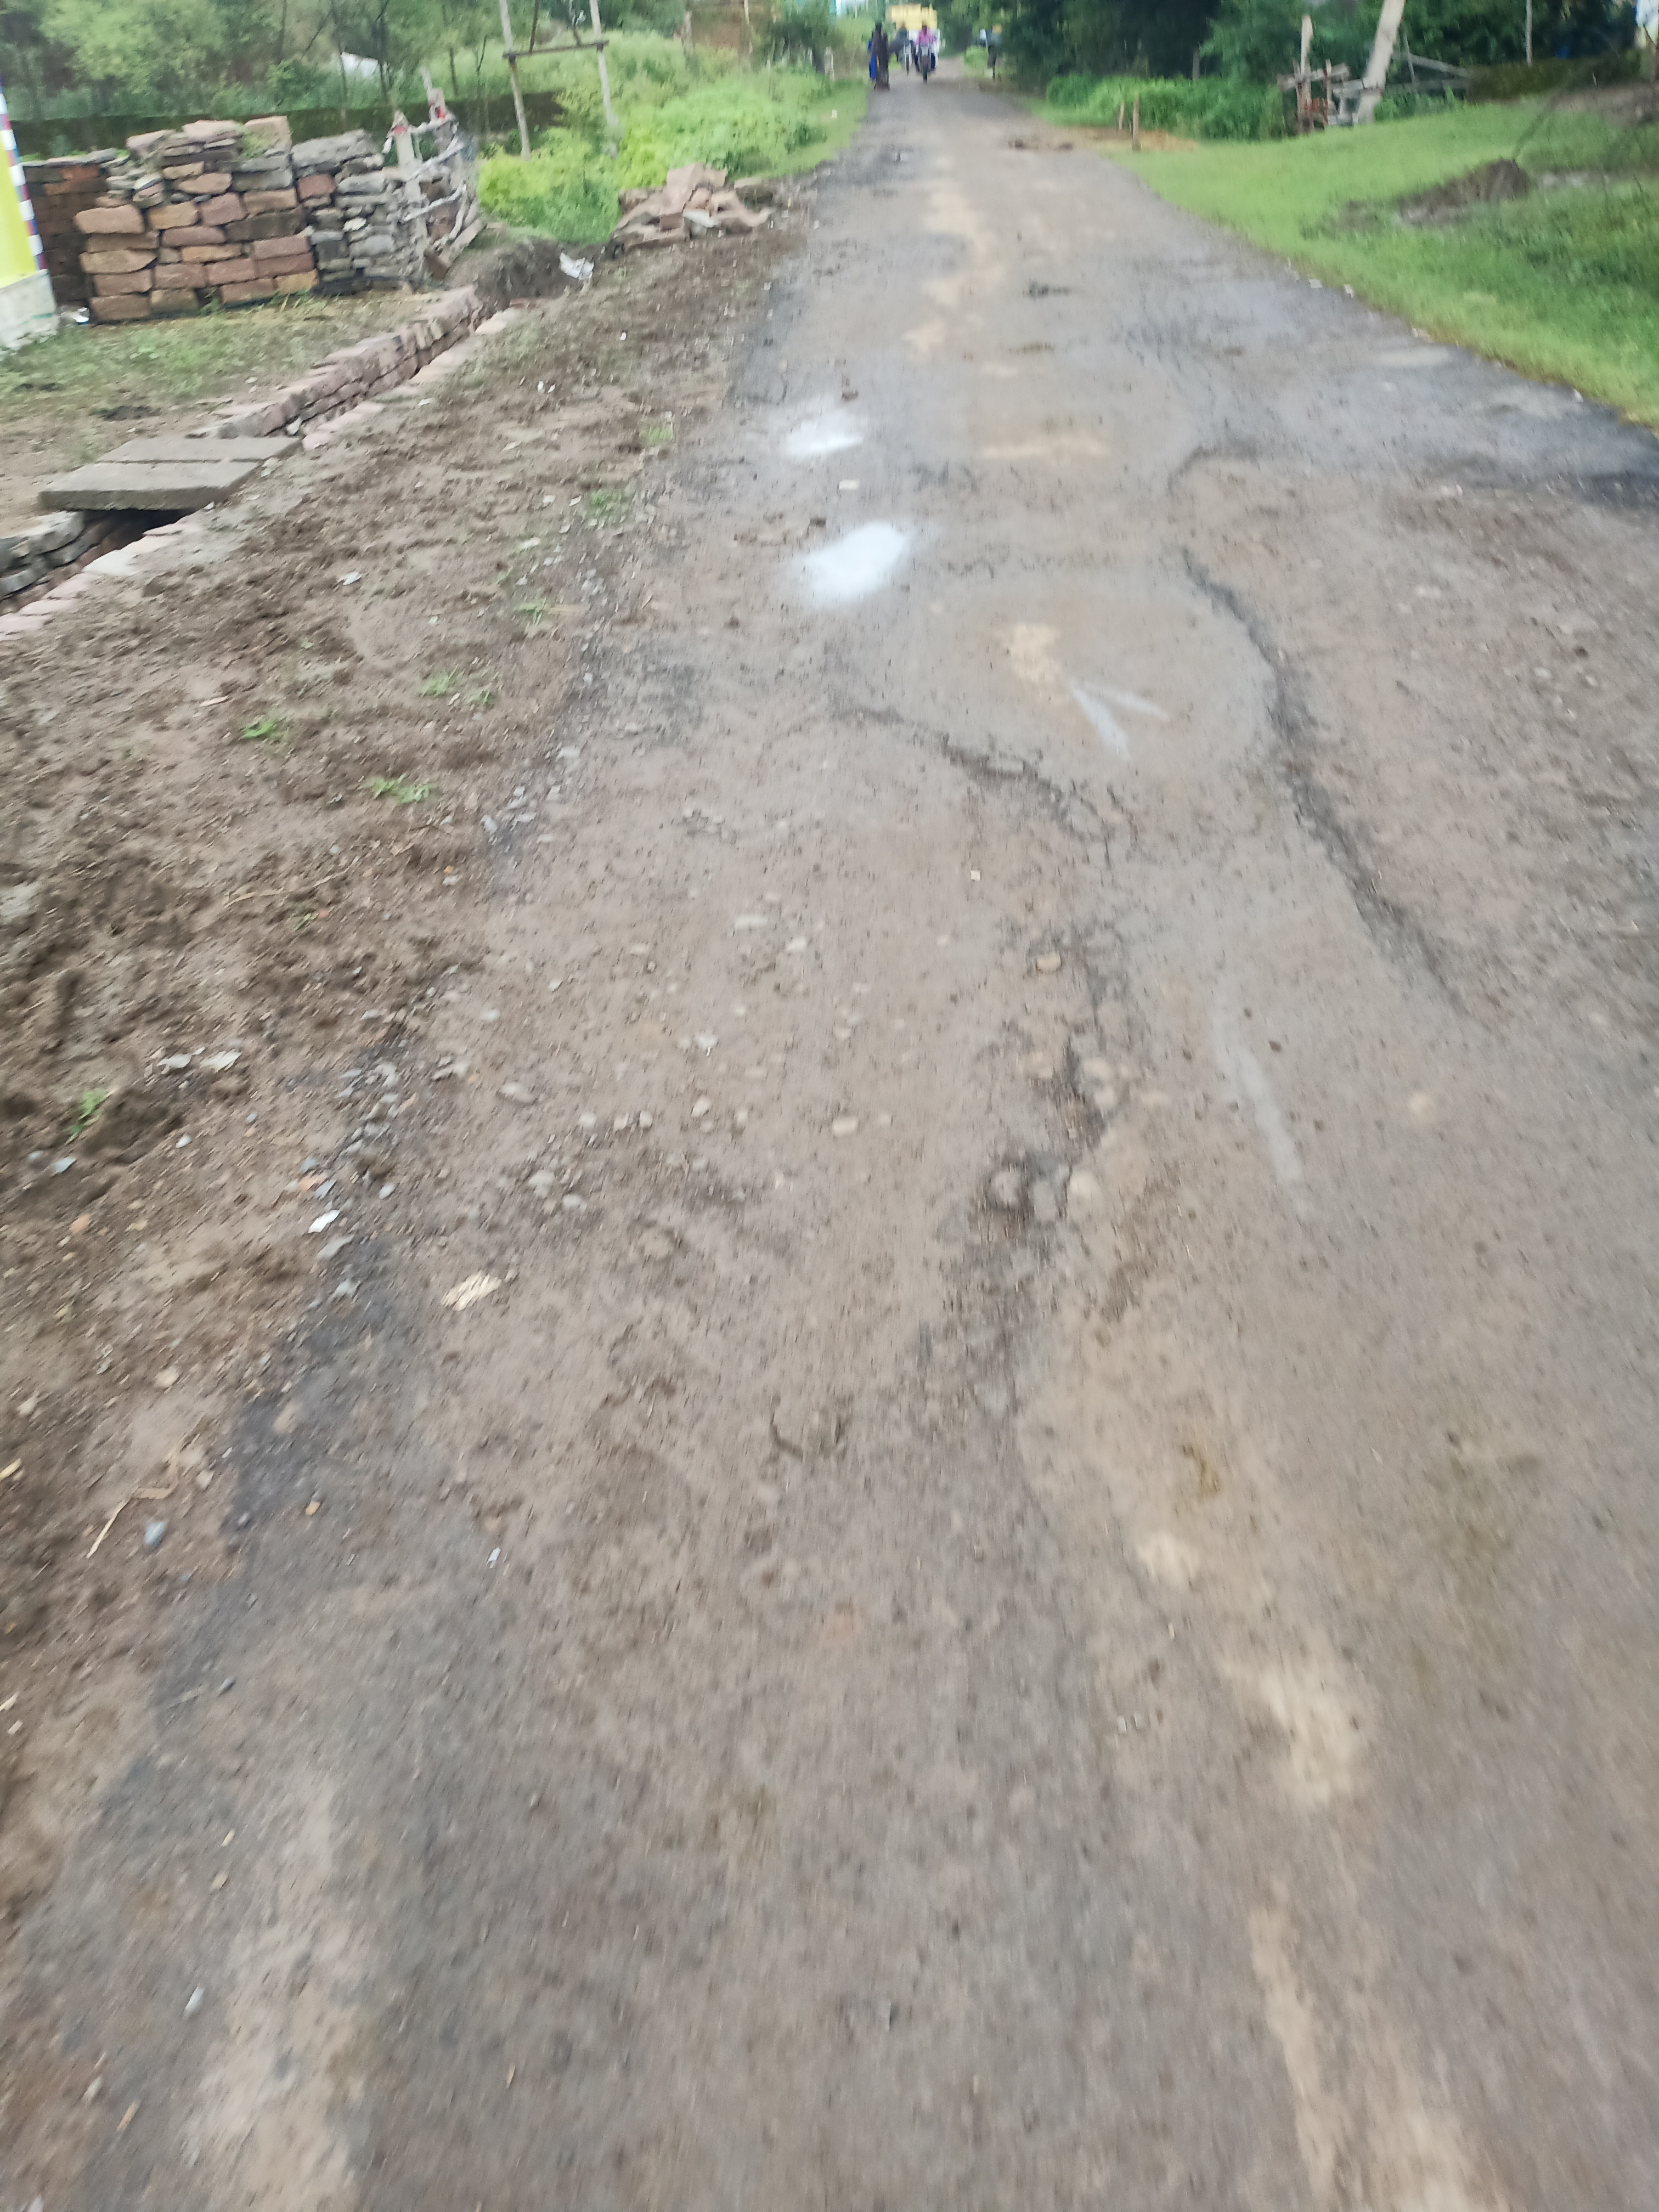potholes: (1154, 411, 1659, 1055), (687, 711, 1119, 1385), (779, 496, 934, 634), (725, 387, 852, 496)
